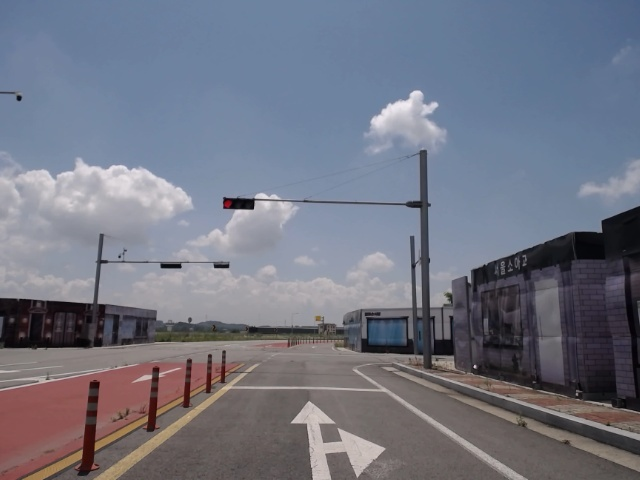red_3: (223, 197, 256, 211)
